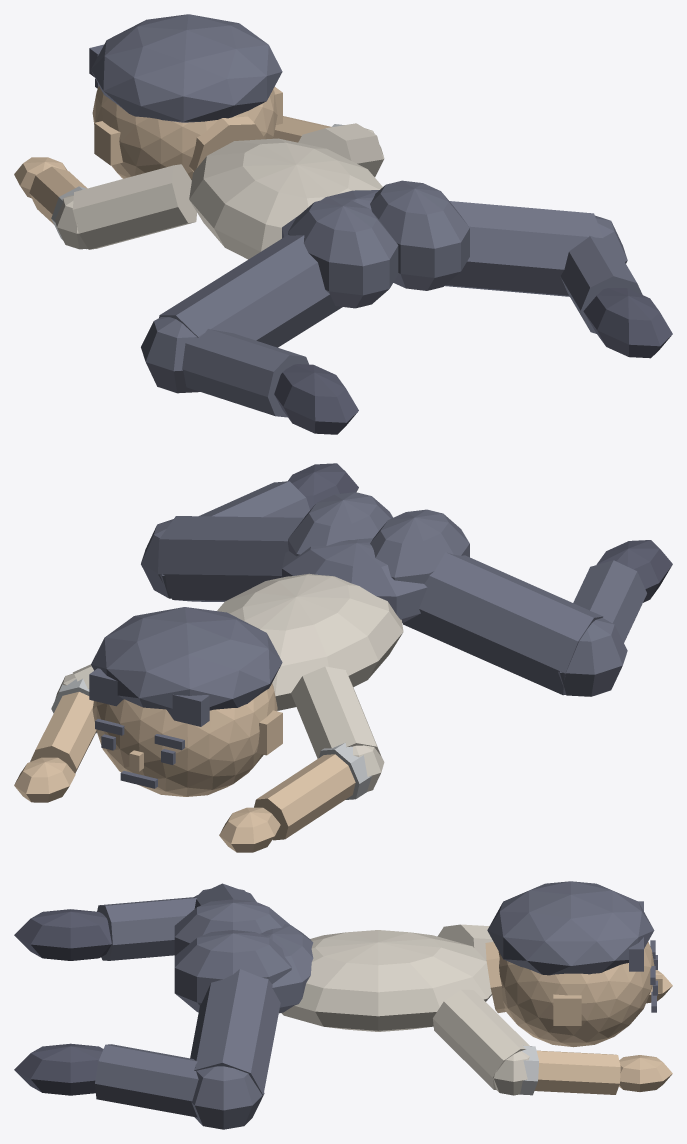
The model's file is character_frog.glb.
The picture shows the model from 3 angles, top to bottom: view 1: azimuth 30°, elevation 25°; view 2: azimuth 150°, elevation 25°; view 3: azimuth 270°, elevation 25°; orthographic projection. The views are drawn at different scales.
Visible parts, largest first — view 1: 006_hair_cap, shirt_torso, thigh_L, thigh_R, seat_L, seat_R, upper_sleeve_L, calf_L, 005_head, shoe_R, shoe_L, calf_R (+9 smaller); view 2: 006_hair_cap, thigh_L, shirt_torso, 005_head, thigh_R, waist_slacks, seat_L, upper_sleeve_L, forearm_L, seat_R, knee_L, calf_L (+12 smaller); view 3: shirt_torso, 006_hair_cap, 005_head, thigh_R, calf_R, seat_R, upper_sleeve_R, calf_L, shoe_L, shoe_R, knee_R, forearm_R (+10 smaller).
Boxes of the visible parts, bbox=[...] form: 006_hair_cap: bbox=[91, 14, 282, 122]; shirt_torso: bbox=[189, 138, 382, 259]; thigh_L: bbox=[159, 235, 342, 347]; thigh_R: bbox=[445, 201, 603, 296]; seat_L: bbox=[288, 198, 398, 308]; seat_R: bbox=[370, 180, 469, 290]; upper_sleeve_L: bbox=[72, 164, 196, 249]; calf_L: bbox=[182, 329, 308, 417]; 005_head: bbox=[92, 85, 277, 180]; shoe_R: bbox=[583, 288, 672, 358]; shoe_L: bbox=[274, 364, 358, 434]; calf_R: bbox=[560, 236, 642, 333]; 006_hair_cap: bbox=[91, 607, 282, 710]; thigh_L: bbox=[403, 552, 603, 695]; shirt_torso: bbox=[217, 573, 403, 710]; 005_head: bbox=[92, 683, 277, 796]; thigh_R: bbox=[158, 516, 303, 601]; waist_slacks: bbox=[282, 538, 427, 623]; seat_L: bbox=[370, 509, 469, 583]; upper_sleeve_L: bbox=[291, 666, 381, 758]; forearm_L: bbox=[254, 754, 355, 840]; seat_R: bbox=[288, 492, 393, 556]; knee_L: bbox=[558, 618, 627, 696]; calf_L: bbox=[573, 560, 646, 642]; shirt_torso: bbox=[281, 930, 491, 1031]; 006_hair_cap: bbox=[487, 881, 654, 975]; 005_head: bbox=[498, 942, 654, 1047]; thigh_R: bbox=[190, 969, 280, 1101]; calf_R: bbox=[95, 1044, 198, 1117]; seat_R: bbox=[174, 930, 291, 1012]; upper_sleeve_R: bbox=[433, 989, 529, 1089]; calf_L: bbox=[97, 897, 196, 960]; shoe_L: bbox=[14, 909, 111, 960]; shoe_R: bbox=[14, 1043, 103, 1095]; knee_R: bbox=[191, 1066, 264, 1129]; forearm_R: bbox=[534, 1050, 620, 1094].
Size of the model in its own units: 1.54 by 0.5351 by 2.09.
